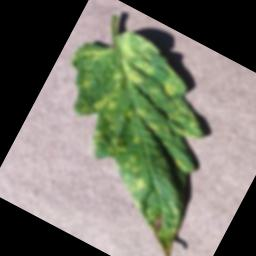Leaf_Mold: (10, 11, 255, 256)
